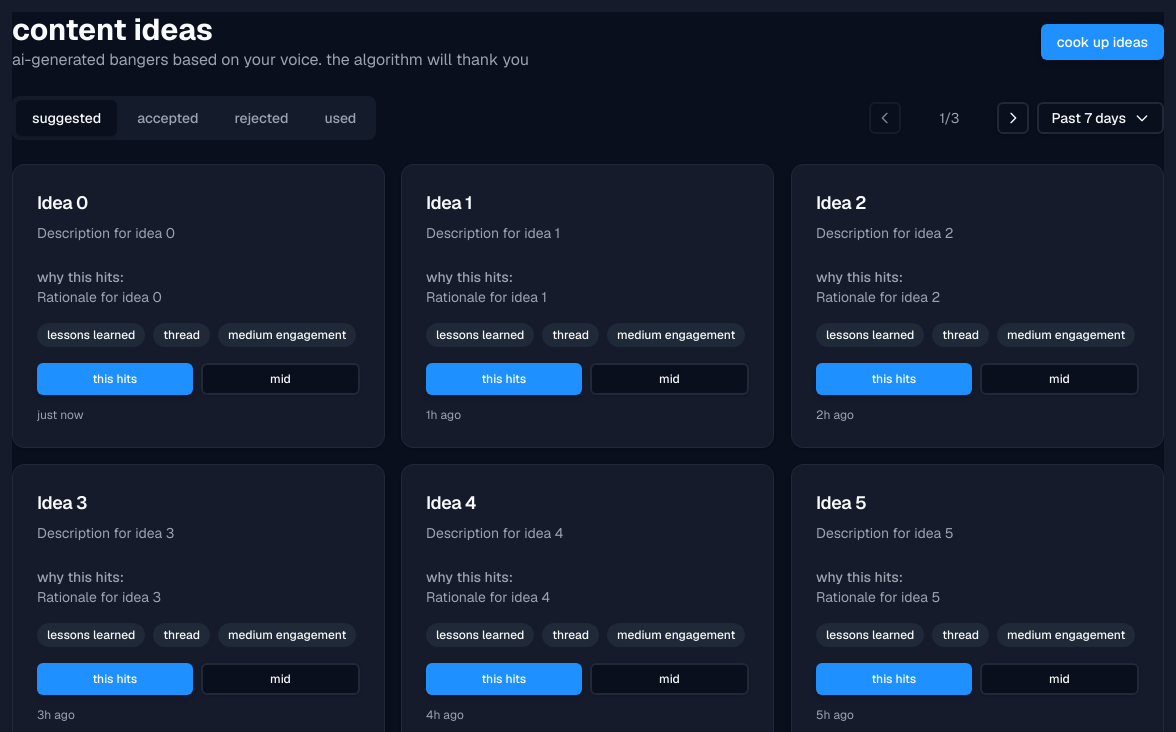
Test: Ideas Dashboard - Pagination Integration › Page Navigation › should navigate to next page when next button is clicked
Expected: the text "1/3" is shown, x1=940 y1=109 x2=959 y2=127
Expected: the heading "Idea 0" is shown, x1=37 y1=191 x2=88 y2=214
Click next
Click the button named "Next page" at (1013, 118), box x1=997 y1=102 x2=1029 y2=134
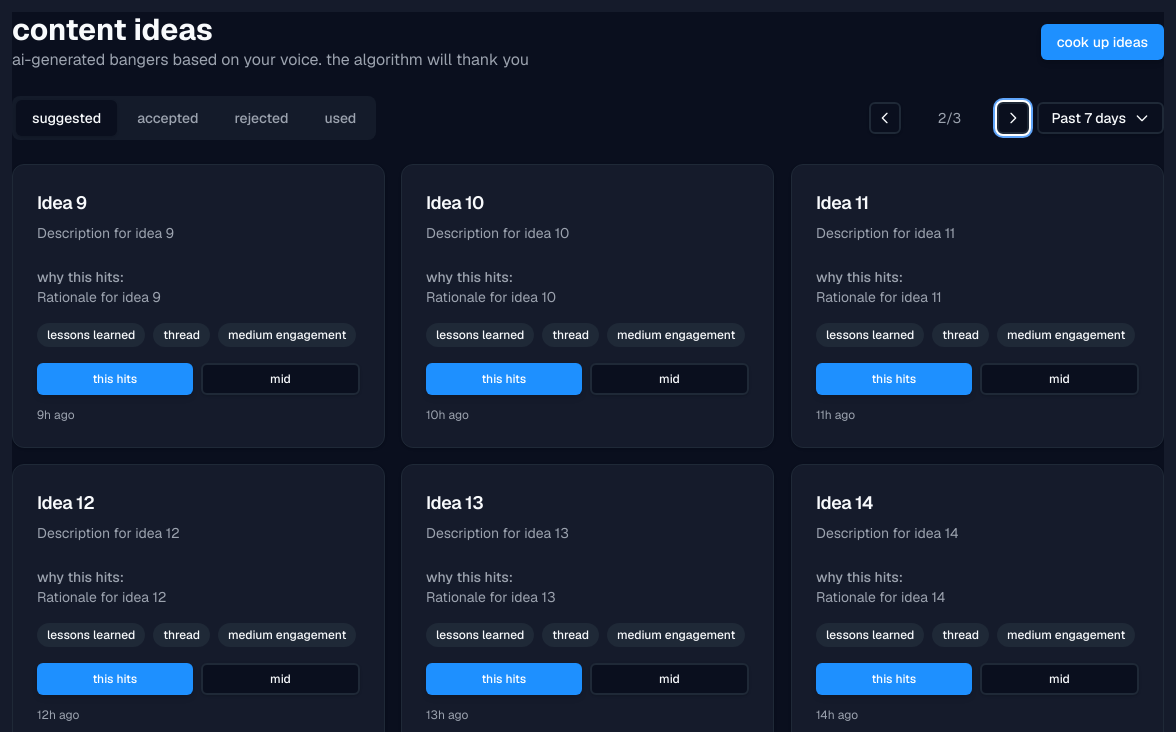
Result: the text "2/3" is shown at x1=938 y1=109 x2=961 y2=127
Result: the heading "Idea 9" is shown at x1=37 y1=191 x2=87 y2=214
Result: the heading "Idea 0" is gone
